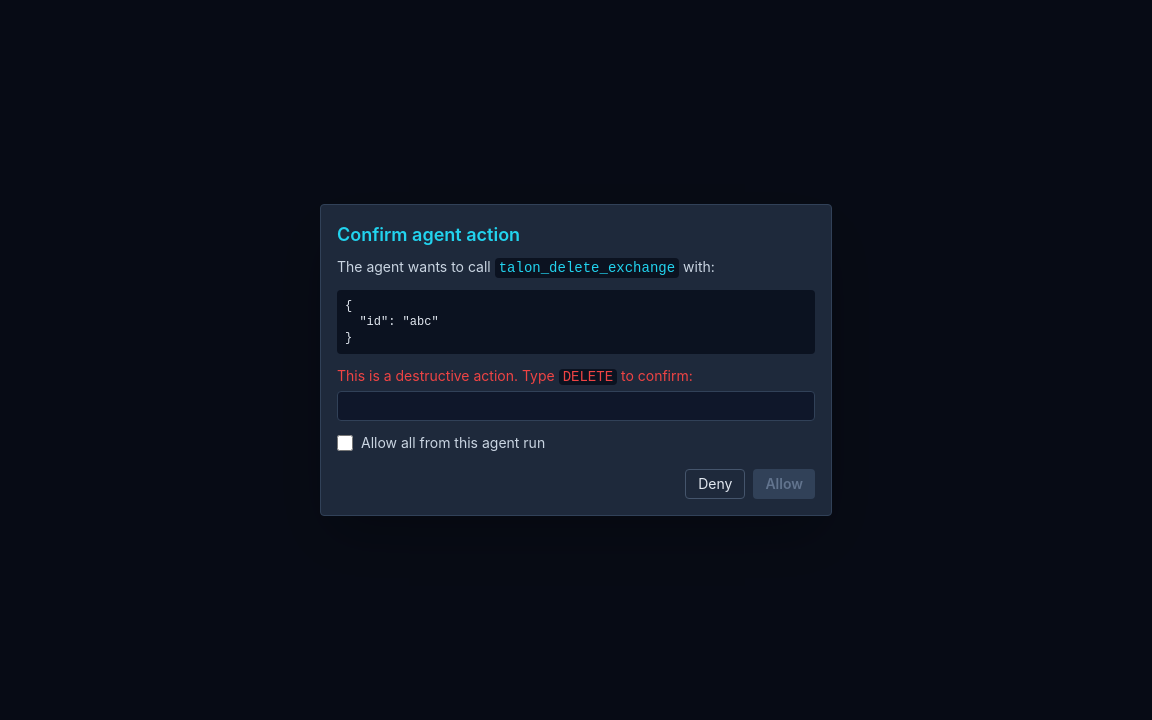
Test: ConfirmDialog › disables Allow for a destructive tool until DELETE is typed
This screenshot has width=1152, height=720.
Expected: the button with test id "confirm-dialog-allow" is disabled, [753,469,815,499]
Type "delete" into the field with test id "confirm-dialog-destructive-input" at (576, 406), box [337,391,815,421]
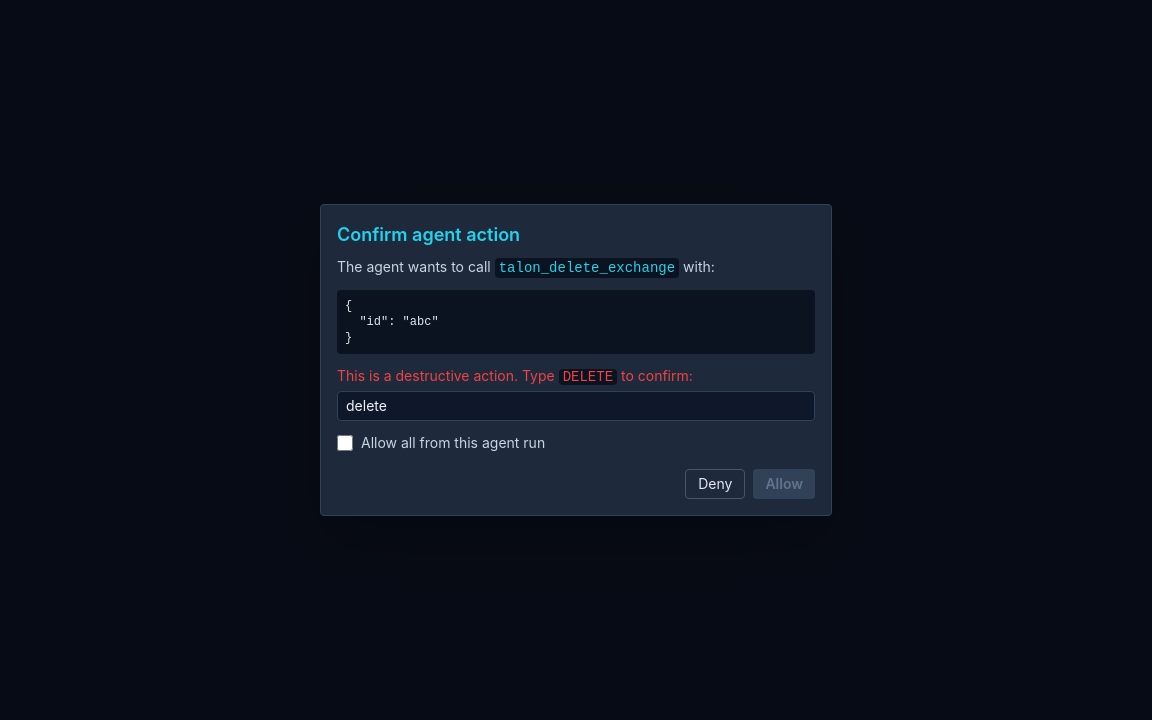
Expected: the button with test id "confirm-dialog-allow" is disabled, [753,469,815,499]
Replace the text in the field with test id "confirm-dialog-destructive-input" with "DELETE" at (576, 406), box [337,391,815,421]
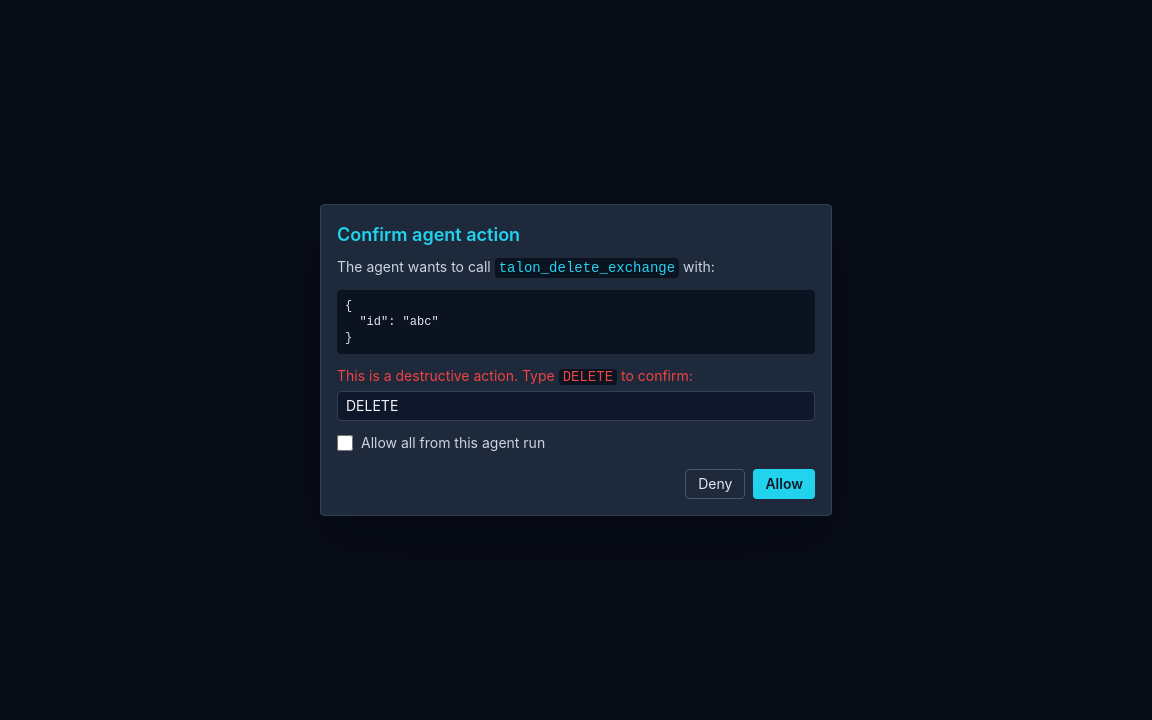
Now the button with test id "confirm-dialog-allow" is enabled, box [753,469,815,499]
